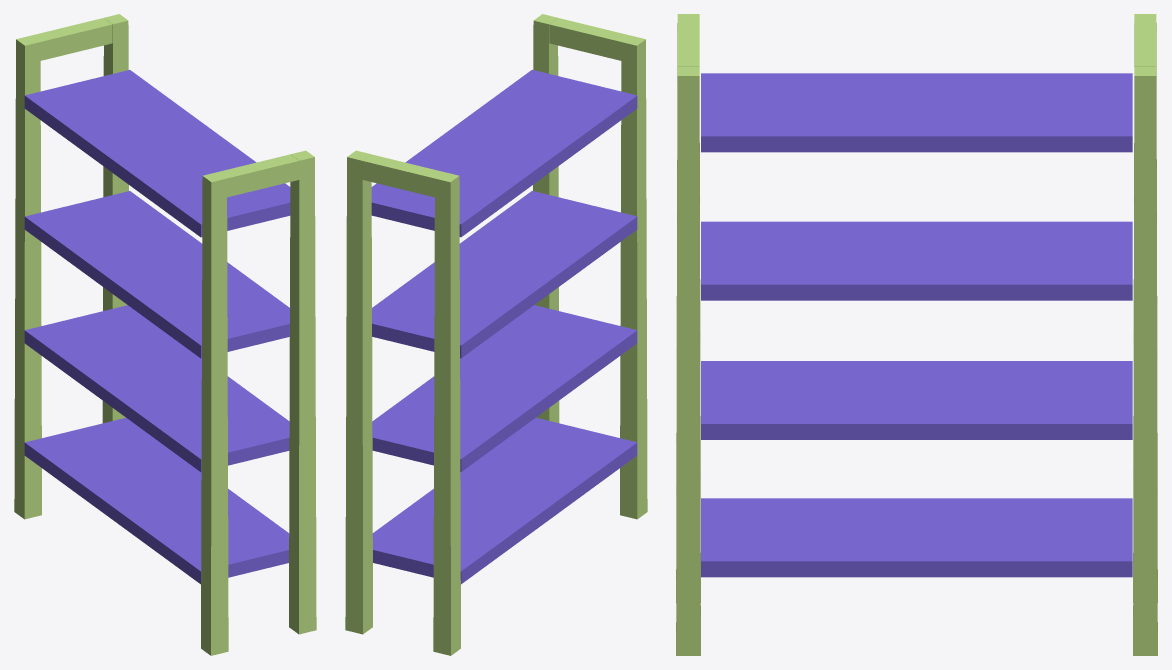
File: shelf 2.fbx
3 views of the same model, side by side, from view 1: azimuth 30°, elevation 25°; view 2: azimuth 150°, elevation 25°; view 3: azimuth 270°, elevation 25° (orthographic). The views are drawn at different scales.
Parts seen in each view (by area): view 1: shelves, legs; view 2: shelves, legs; view 3: shelves, legs.
Boxes of the visible parts, x1=… form: shelves: x1=24, y1=70, x2=290, y2=584; legs: x1=14, y1=14, x2=316, y2=655; shelves: x1=371, y1=69, x2=637, y2=584; legs: x1=345, y1=14, x2=647, y2=655; shelves: x1=701, y1=73, x2=1132, y2=577; legs: x1=676, y1=14, x2=1157, y2=655.
Size of the model in its own units: 116 by 495 by 373.
